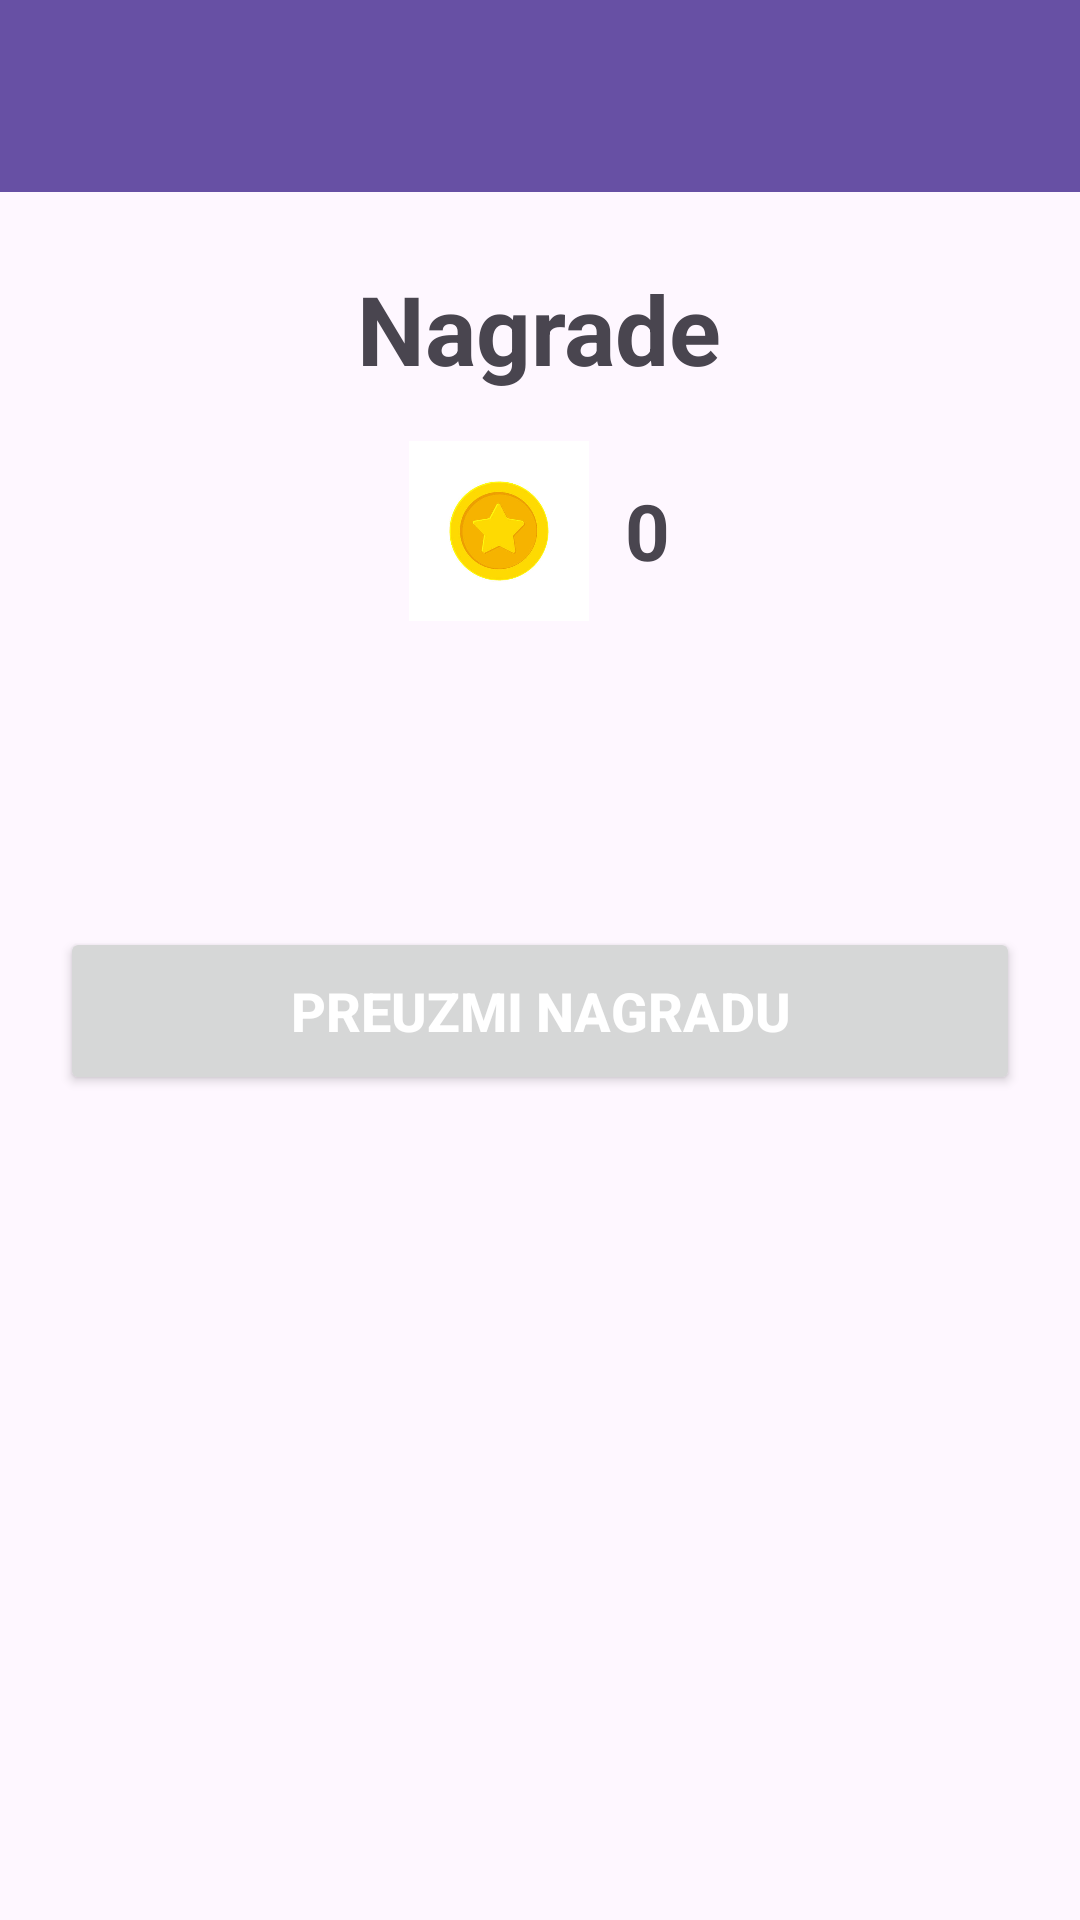

Point at icon controls on the screen. Image size 1080w x 1920h, points as (x,y).
Novčić: (499,531)
